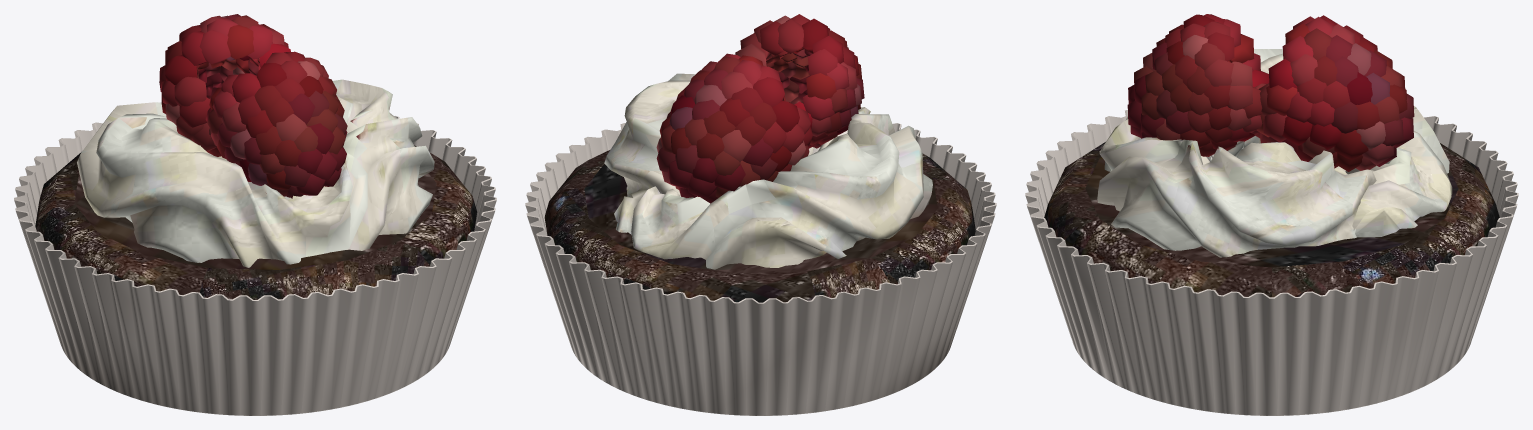
The model's file is mud-cake.glb.
The picture shows the model from 3 angles, left to right: view 1: azimuth 30°, elevation 25°; view 2: azimuth 150°, elevation 25°; view 3: azimuth 270°, elevation 25°; orthographic projection. The views are drawn at different scales.
Parts seen in each view (by area): view 1: Small cake wrapper, Whipped cream, Mud cake base, Raspberry.001, Raspberry; view 2: Small cake wrapper, Whipped cream, Mud cake base, Raspberry, Raspberry.001; view 3: Small cake wrapper, Whipped cream, Mud cake base, Raspberry, Raspberry.001.
Part boxes in pixels (x1=…): Small cake wrapper: x1=14, y1=116, x2=496, y2=415; Whipped cream: x1=77, y1=79, x2=434, y2=267; Mud cake base: x1=35, y1=145, x2=477, y2=299; Raspberry.001: x1=205, y1=51, x2=347, y2=198; Raspberry: x1=159, y1=14, x2=290, y2=156; Small cake wrapper: x1=525, y1=123, x2=996, y2=415; Whipped cream: x1=604, y1=73, x2=932, y2=269; Mud cake base: x1=544, y1=150, x2=975, y2=302; Raspberry: x1=656, y1=53, x2=812, y2=203; Raspberry.001: x1=735, y1=14, x2=864, y2=148; Small cake wrapper: x1=1025, y1=110, x2=1518, y2=415; Whipped cream: x1=1097, y1=49, x2=1452, y2=257; Mud cake base: x1=1044, y1=142, x2=1499, y2=297; Raspberry: x1=1254, y1=15, x2=1414, y2=171; Raspberry.001: x1=1127, y1=14, x2=1269, y2=156.
Size of the model in its own units: 0.0785 by 0.0542 by 0.0785.
4 materials, 4 textured.
